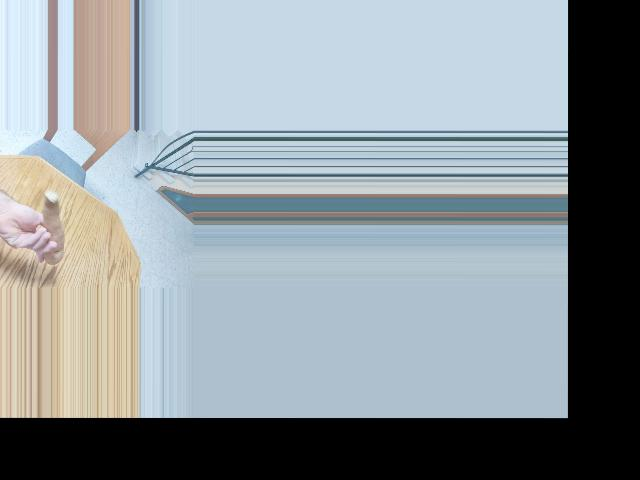sweet_potato: (36, 189, 65, 261)
